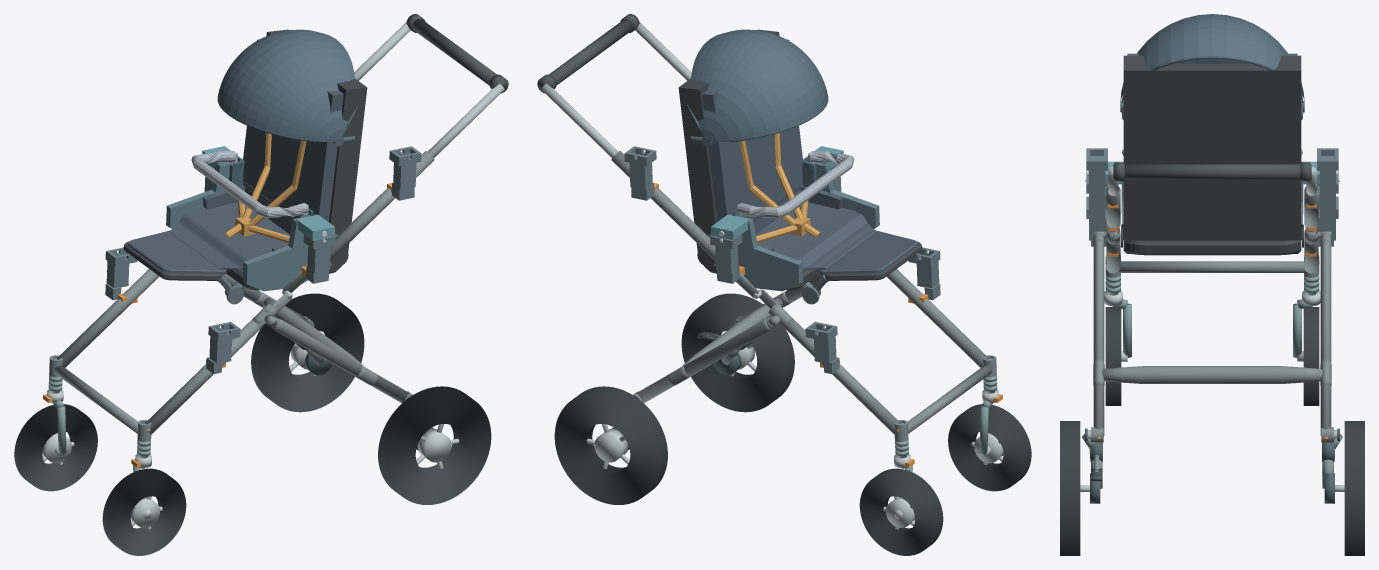
The model's file is S05_w550_state1_wheel_M.glb.
3 renders of one model, left to right at view 1: azimuth 30°, elevation 25°; view 2: azimuth 150°, elevation 25°; view 3: azimuth 270°, elevation 25°, orthographic. The views are drawn at different scales.
Visible parts, largest first — view 1: S05_Cabin, RL_tire.002, RR_tire.002, FL_tire.002, FR_tire.002, S05_Cabin_Mount_M, V46_rear_leg_-1.003, main_lower_1.003, main_lower_-1.003, round_handle.002, main_upper_-1.003, Universal_Cabin_Receiver_H_-1 (+9 smaller); view 2: S05_Cabin, RR_tire.002, RL_tire.002, FR_tire.002, FL_tire.002, S05_Cabin_Mount_M, V46_rear_leg_1.003, main_lower_-1.003, main_lower_1.003, round_handle.002, main_upper_1.003, Universal_Cabin_Receiver_H_1 (+9 smaller); view 3: S05_Cabin, V46_rearbar.003, round_handle.002, RL_tire.002, RR_tire.002, front_fixed_round_tube.002, V46_rear_leg_1.003, V46_rear_leg_-1.003, FL_tire.002, FR_tire.002, Universal_Cabin_Receiver_H_1, Universal_Cabin_Receiver_H_-1 (+9 smaller).
Boxes of the visible parts, x1=… form: S05_Cabin: x1=123, y1=29, x2=367, y2=304; RL_tire.002: x1=378, y1=386, x2=491, y2=504; RR_tire.002: x1=251, y1=293, x2=364, y2=412; FL_tire.002: x1=102, y1=468, x2=186, y2=555; FR_tire.002: x1=14, y1=404, x2=97, y2=491; S05_Cabin_Mount_M: x1=166, y1=146, x2=338, y2=291; V46_rear_leg_-1.003: x1=273, y1=319, x2=409, y2=402; main_lower_1.003: x1=57, y1=269, x2=159, y2=367; main_lower_-1.003: x1=145, y1=319, x2=264, y2=434; round_handle.002: x1=412, y1=19, x2=507, y2=91; main_upper_-1.003: x1=330, y1=151, x2=434, y2=260; Universal_Cabin_Receiver_H_-1: x1=389, y1=146, x2=421, y2=200; S05_Cabin: x1=678, y1=29, x2=922, y2=304; RR_tire.002: x1=554, y1=386, x2=667, y2=504; RL_tire.002: x1=681, y1=293, x2=794, y2=412; FR_tire.002: x1=859, y1=468, x2=943, y2=555; FL_tire.002: x1=948, y1=404, x2=1031, y2=491; S05_Cabin_Mount_M: x1=707, y1=146, x2=879, y2=291; V46_rear_leg_1.003: x1=636, y1=319, x2=772, y2=402; main_lower_-1.003: x1=886, y1=269, x2=988, y2=367; main_lower_1.003: x1=781, y1=319, x2=900, y2=434; round_handle.002: x1=538, y1=19, x2=633, y2=91; main_upper_1.003: x1=611, y1=151, x2=715, y2=260; Universal_Cabin_Receiver_H_1: x1=624, y1=146, x2=656, y2=200; S05_Cabin: x1=1120, y1=14, x2=1304, y2=255; V46_rearbar.003: x1=1102, y1=366, x2=1322, y2=383; round_handle.002: x1=1113, y1=164, x2=1311, y2=179; RL_tire.002: x1=1060, y1=421, x2=1080, y2=555; RR_tire.002: x1=1344, y1=421, x2=1364, y2=555; front_fixed_round_tube.002: x1=1119, y1=261, x2=1305, y2=272; V46_rear_leg_1.003: x1=1320, y1=239, x2=1331, y2=436; V46_rear_leg_-1.003: x1=1093, y1=239, x2=1104, y2=436; FL_tire.002: x1=1105, y1=307, x2=1121, y2=405; FR_tire.002: x1=1303, y1=307, x2=1319, y2=405; Universal_Cabin_Receiver_H_1: x1=1317, y1=148, x2=1338, y2=208; Universal_Cabin_Receiver_H_-1: x1=1086, y1=148, x2=1107, y2=208.
Size of the model in its own units: 1.16 by 1.19 by 0.6771.
